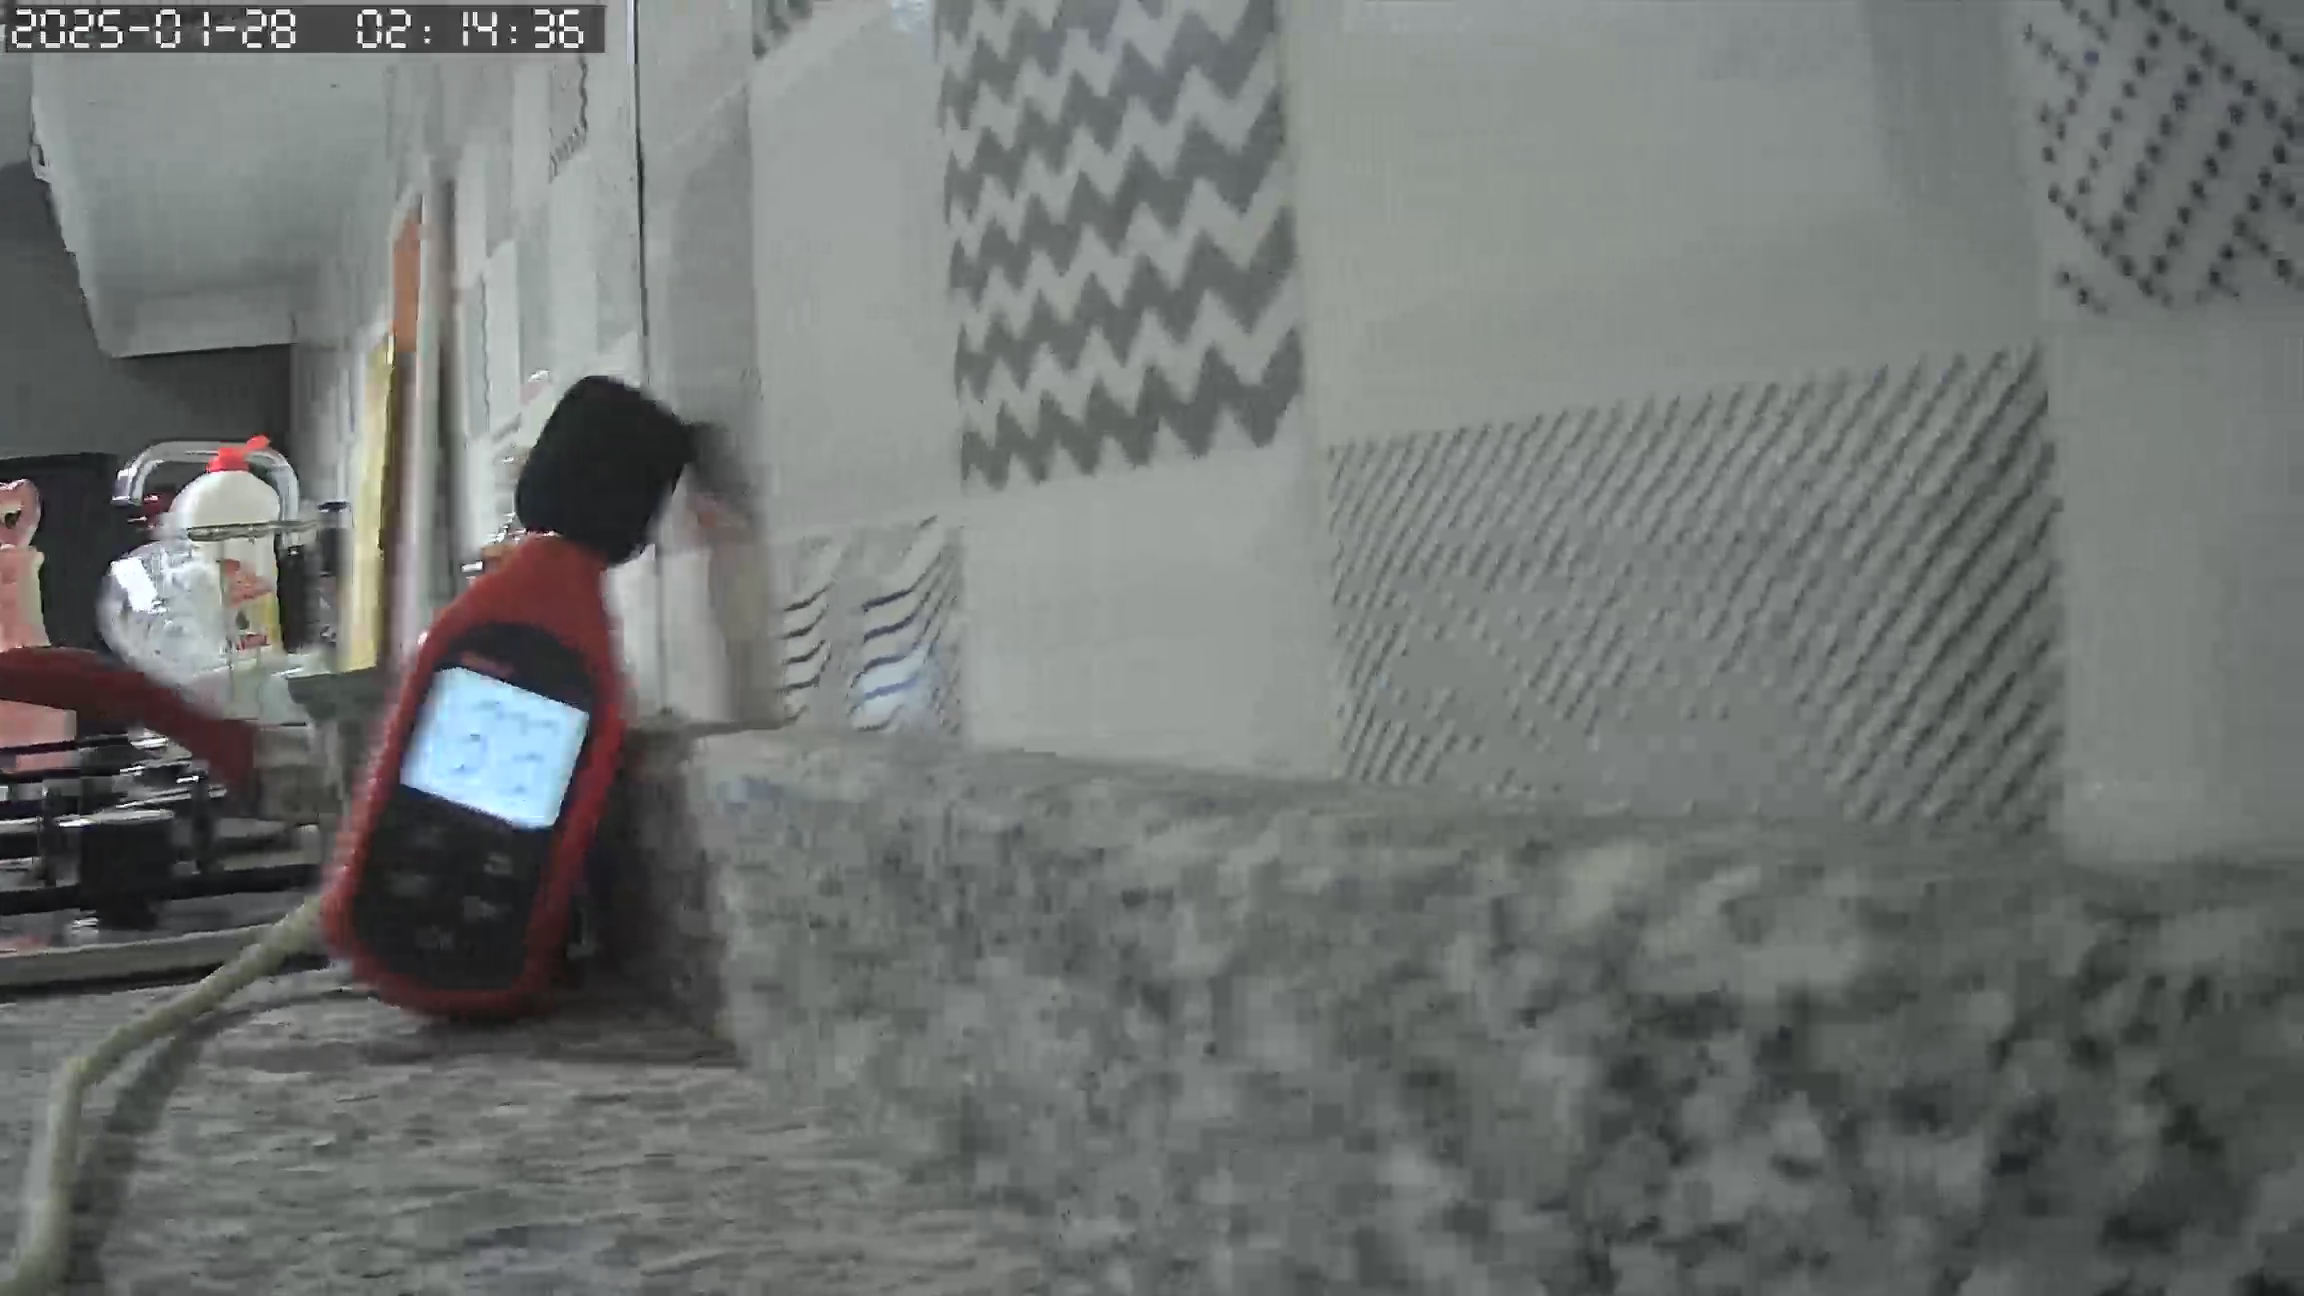screen: (399, 669, 592, 831)
